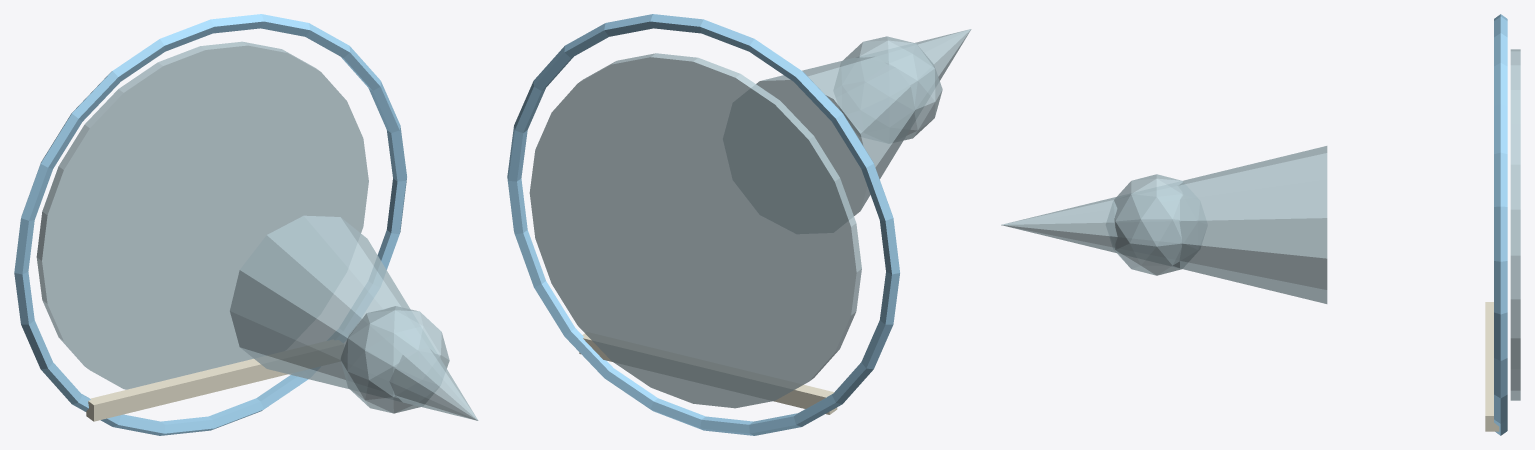
Rendered from 01_ability_vfx_module.glb.
The picture shows the model from 3 angles, left to right: view 1: azimuth 30°, elevation 25°; view 2: azimuth 150°, elevation 25°; view 3: azimuth 270°, elevation 25°; orthographic projection. The views are drawn at different scales.
Parts seen in each view (by area): view 1: ability_ground_disc, ability_energy_cone, ability_timing_ring, ability_core, directional_flow_mark; view 2: ability_ground_disc, ability_timing_ring, ability_energy_cone, directional_flow_mark, ability_core; view 3: ability_energy_cone, ability_core, ability_timing_ring, ability_ground_disc, directional_flow_mark.
Part boxes in pixels (left/top/right/bottom): ability_ground_disc: left=36, top=41, right=368, bottom=389; ability_energy_cone: left=230, top=215, right=478, bottom=420; ability_timing_ring: left=14, top=14, right=406, bottom=435; ability_core: left=340, top=306, right=449, bottom=413; directional_flow_mark: left=86, top=340, right=343, bottom=421; ability_ground_disc: left=529, top=53, right=861, bottom=408; ability_timing_ring: left=507, top=14, right=899, bottom=435; ability_energy_cone: left=756, top=29, right=971, bottom=215; directional_flow_mark: left=579, top=332, right=837, bottom=414; ability_core: left=843, top=36, right=942, bottom=140; ability_energy_cone: left=1001, top=146, right=1327, bottom=303; ability_core: left=1114, top=174, right=1183, bottom=275; ability_timing_ring: left=1494, top=14, right=1507, bottom=435; ability_ground_disc: left=1510, top=49, right=1520, bottom=400; directional_flow_mark: left=1485, top=302, right=1499, bottom=431.
Bounding box in the file's own units: 1.49 × 1.49 × 1.83.
